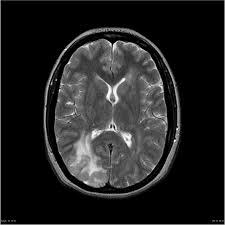Normal_Brain: (3, 4, 225, 225)
